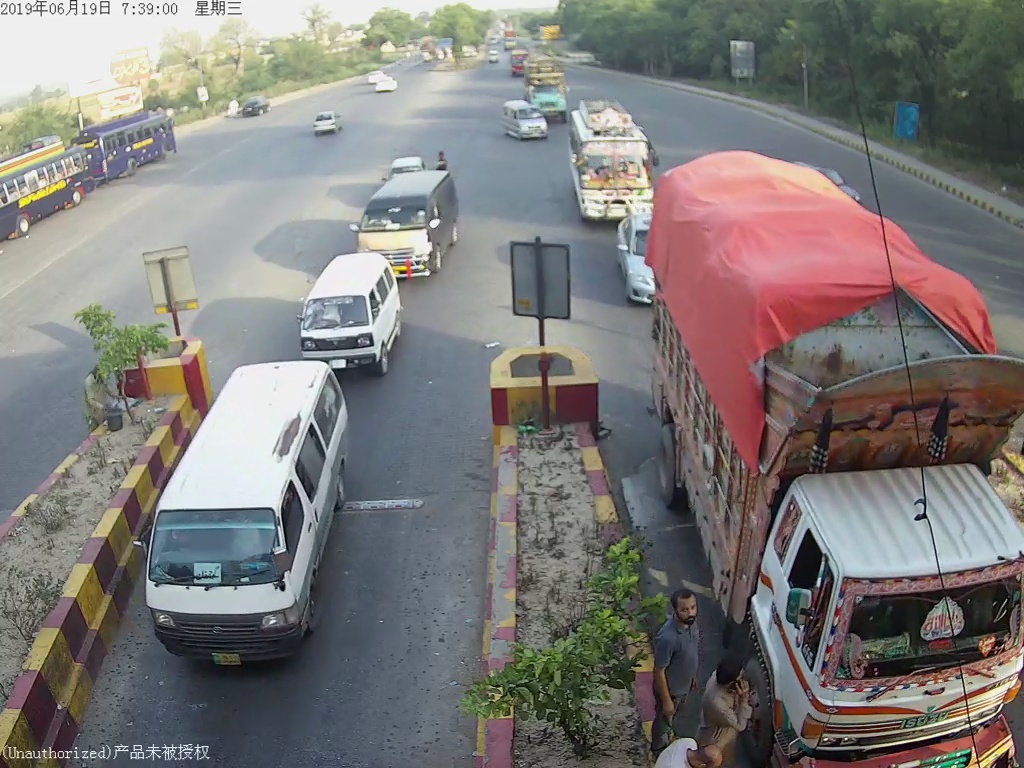Cat-1: (298, 255, 403, 374), (616, 211, 669, 306)
Cat-2: (145, 359, 355, 675), (354, 166, 462, 276)
Cat-3: (564, 98, 658, 224)
Cat-4: (657, 162, 1023, 766), (521, 59, 574, 119)
